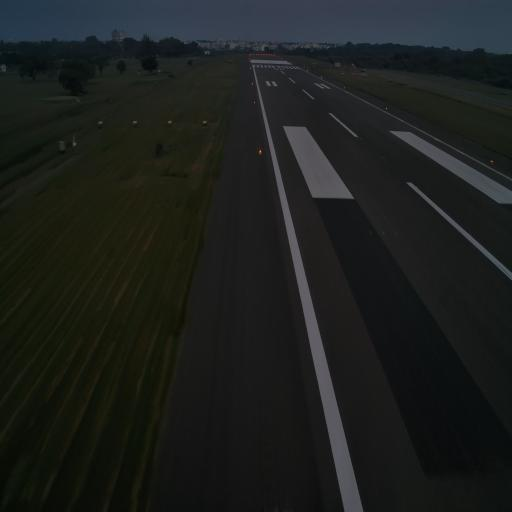off: (368, 226, 374, 240), (393, 228, 398, 240), (381, 228, 386, 238), (381, 155, 385, 161), (359, 136, 363, 142)
on: (257, 144, 263, 157), (489, 158, 494, 166)
